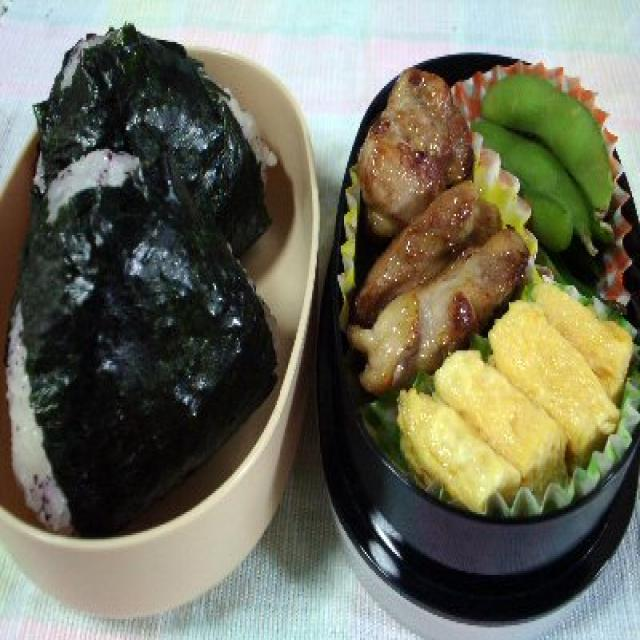米饭主食: (8, 128, 290, 527), (16, 12, 280, 275)
